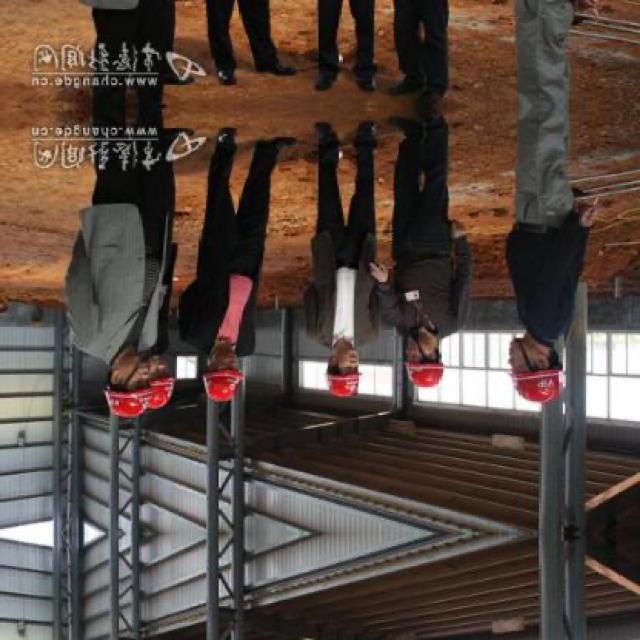con casco: (494, 313, 584, 404), (402, 332, 462, 398), (94, 349, 147, 422), (313, 339, 378, 398), (191, 338, 247, 398), (128, 354, 178, 402)
